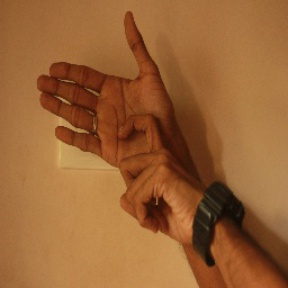R: (36, 7, 192, 223)
